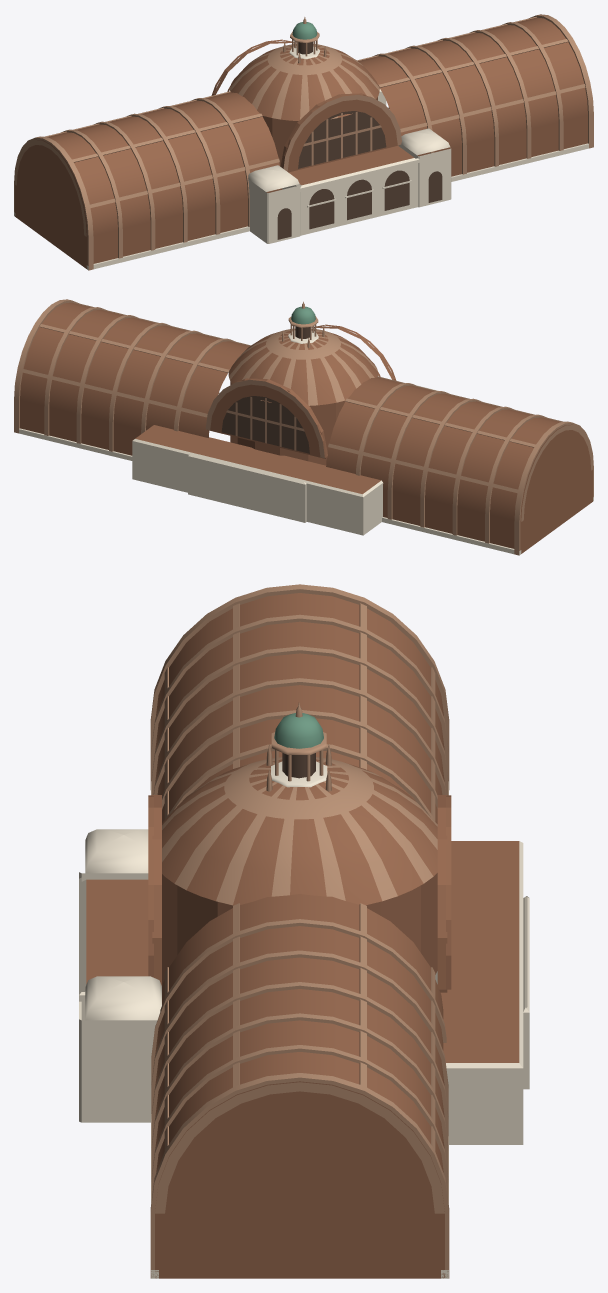
File: sd-botanical-building.glb
3 views of the same model, one above another, from view 1: azimuth 30°, elevation 25°; view 2: azimuth 150°, elevation 25°; view 3: azimuth 270°, elevation 25° (orthographic). The views are drawn at different scales.
Parts seen in each view (by area): view 1: Botanical Building; view 2: Botanical Building; view 3: Botanical Building.
Boxes of the visible parts, left/top/right/bottom form: Botanical Building: left=14, top=14, right=593, bottom=270; Botanical Building: left=14, top=299, right=593, bottom=555; Botanical Building: left=79, top=584, right=529, bottom=1278.
Size of the model in its own units: 72.64 by 22.6 by 28.
